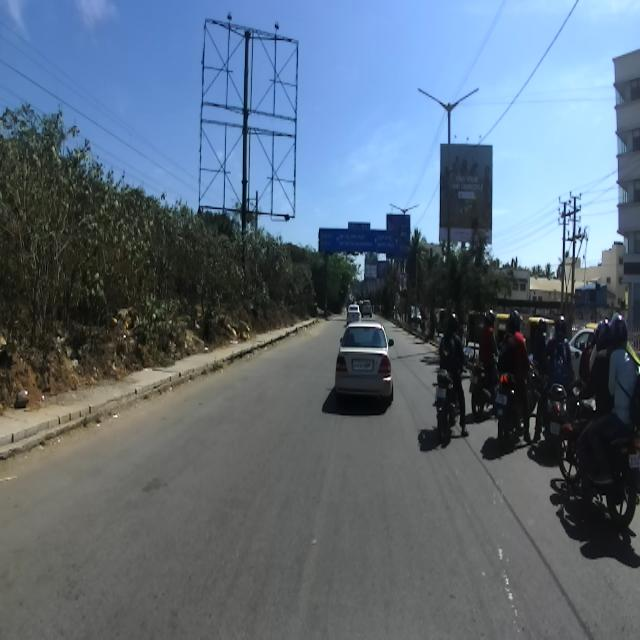car ahead at: (334, 321, 397, 408)
